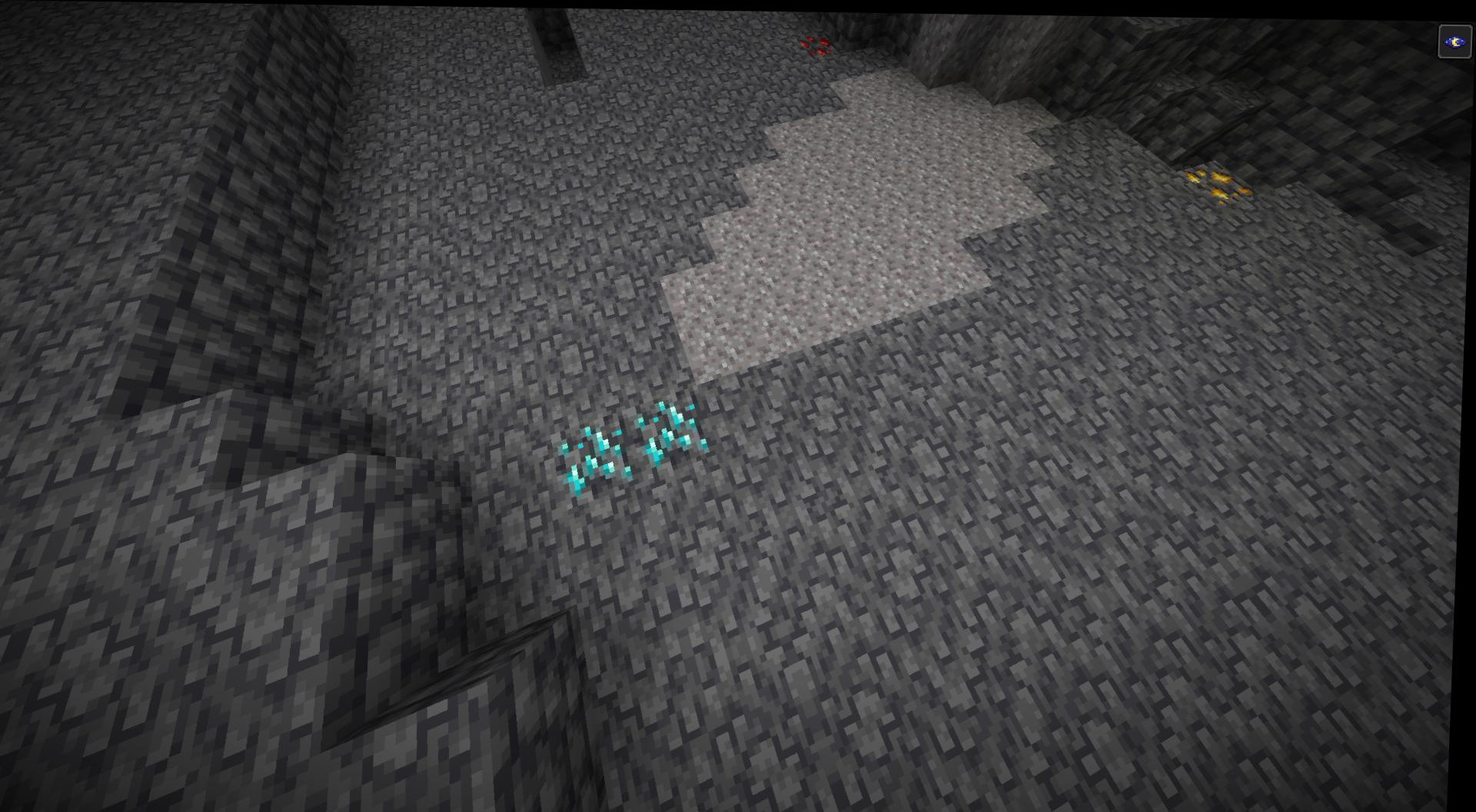diamond ore: (628, 398, 719, 462), (552, 423, 631, 494)
gold ore: (1183, 158, 1253, 200)
redstone ore: (799, 30, 842, 57)
